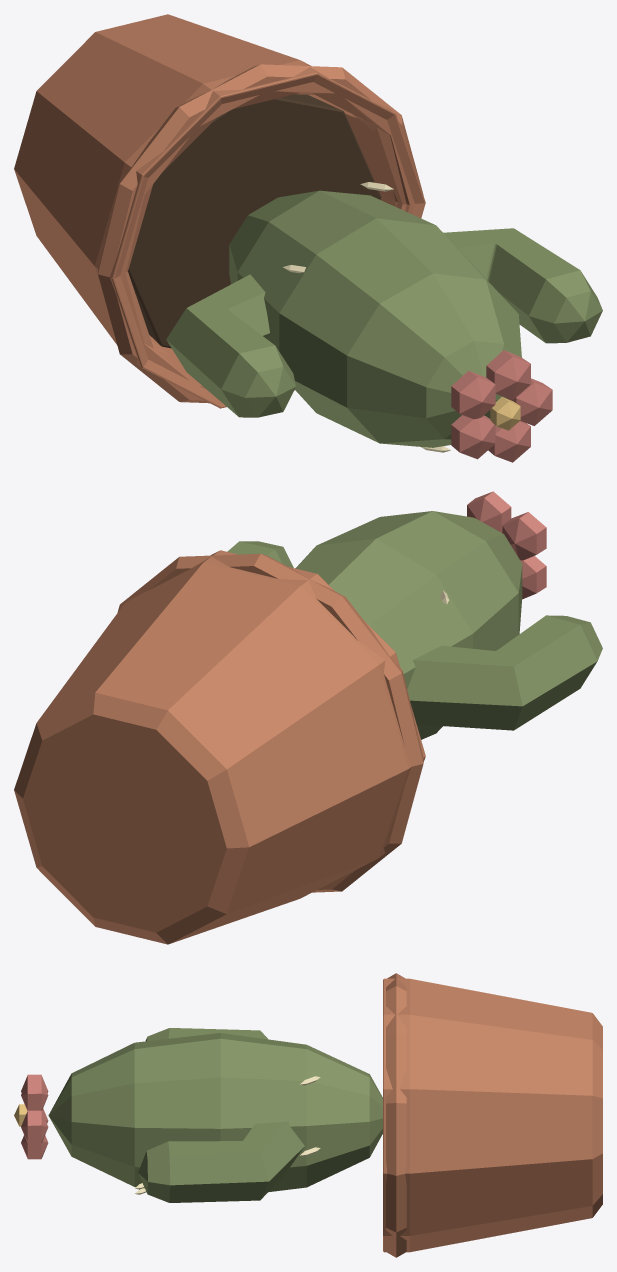
Rendered from potted_cactus.glb.
3 renders of one model, top to bottom at view 1: azimuth 30°, elevation 25°; view 2: azimuth 150°, elevation 25°; view 3: azimuth 270°, elevation 25°, orthographic. The views are drawn at different scales.
Parts seen in each view (by area): view 1: potted_cactus; view 2: potted_cactus; view 3: potted_cactus.
Part boxes in pixels (x1,y1,x2,y2): potted_cactus: (14, 14, 602, 462); potted_cactus: (14, 491, 602, 944); potted_cactus: (14, 973, 602, 1257).
Size of the model in its own units: 0.096 by 0.083 by 0.171.
